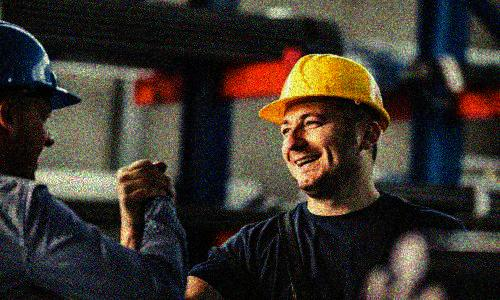helmet: (257, 52, 391, 192), (1, 18, 83, 183)
